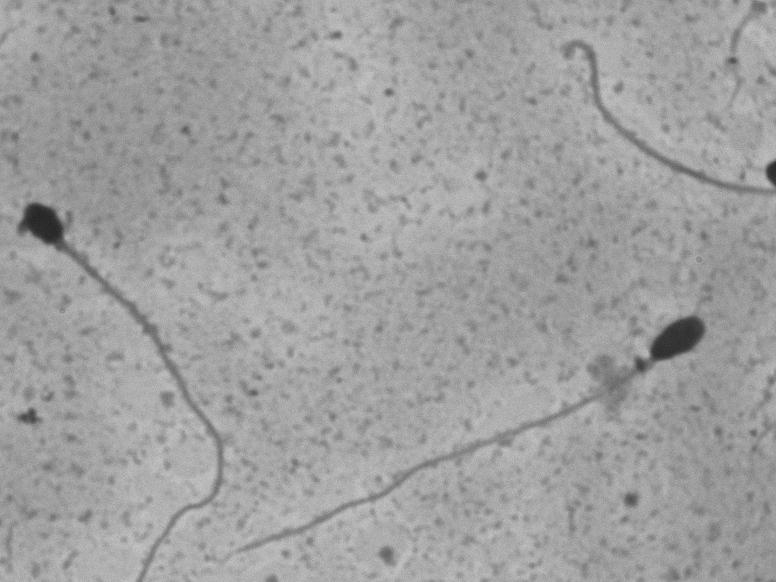Normal: (249, 300, 717, 560), (12, 183, 238, 578)
